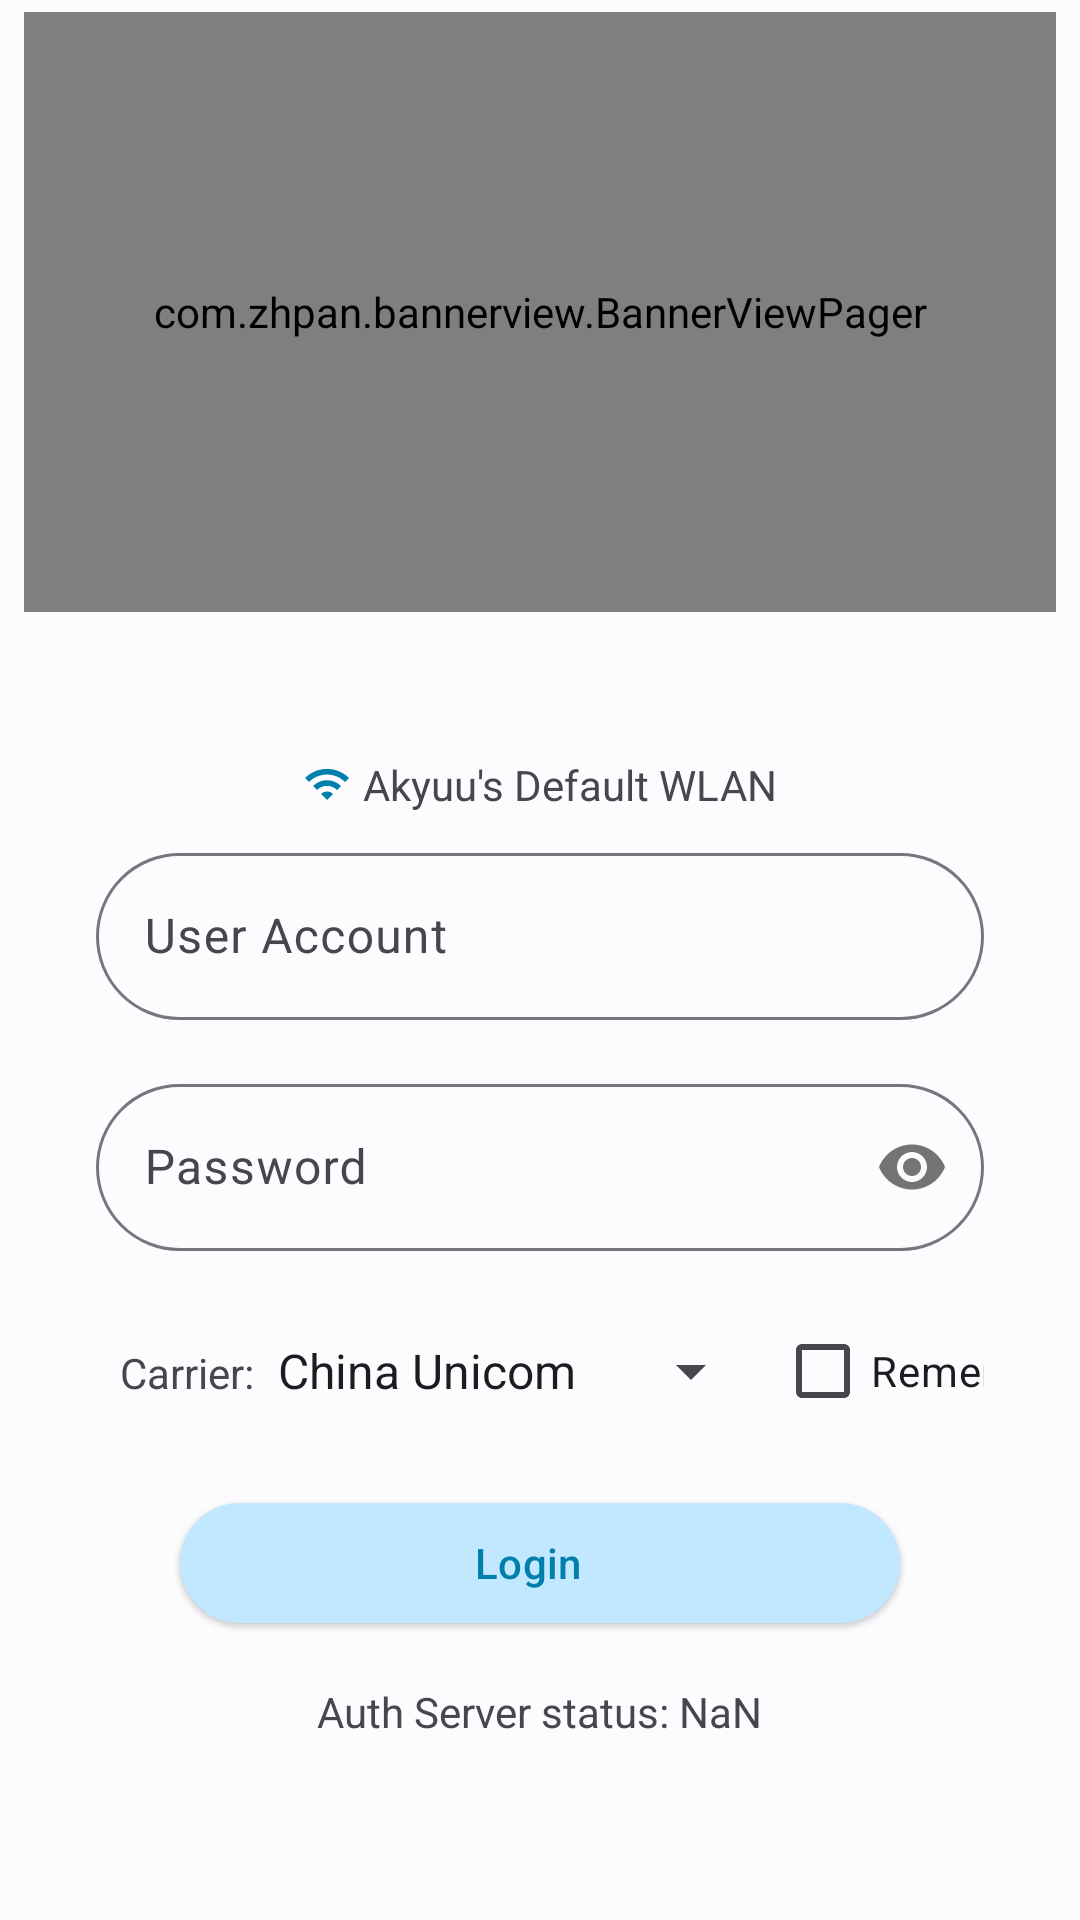

Point at icon controls on the screen. Image size 1080x1920, points as (x=x, y=y).
wifi: (x=327, y=784)
